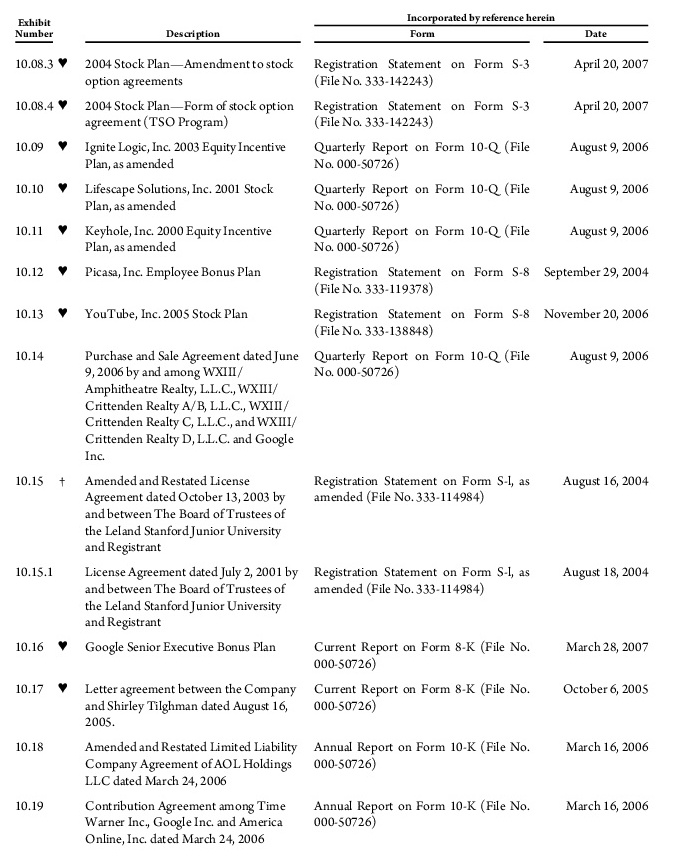table: (0, 0, 674, 865)
